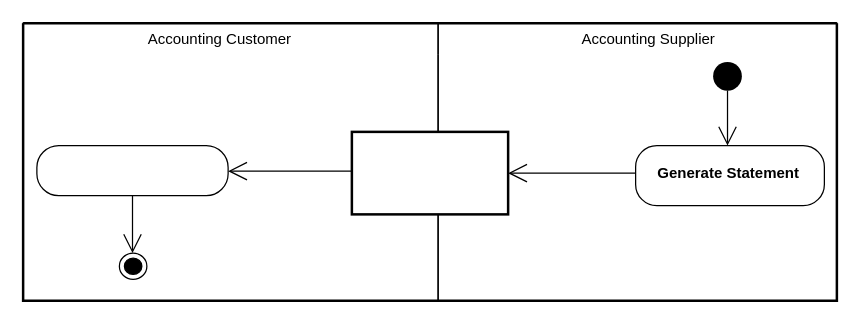
Image size: 859x323. Some labels were removed from this diagram. Here are the shapes that lost their labels. From the top down, the box of each, then its label:
(36, 144, 228, 196): Receive Statement
(350, 130, 509, 215): Statement
